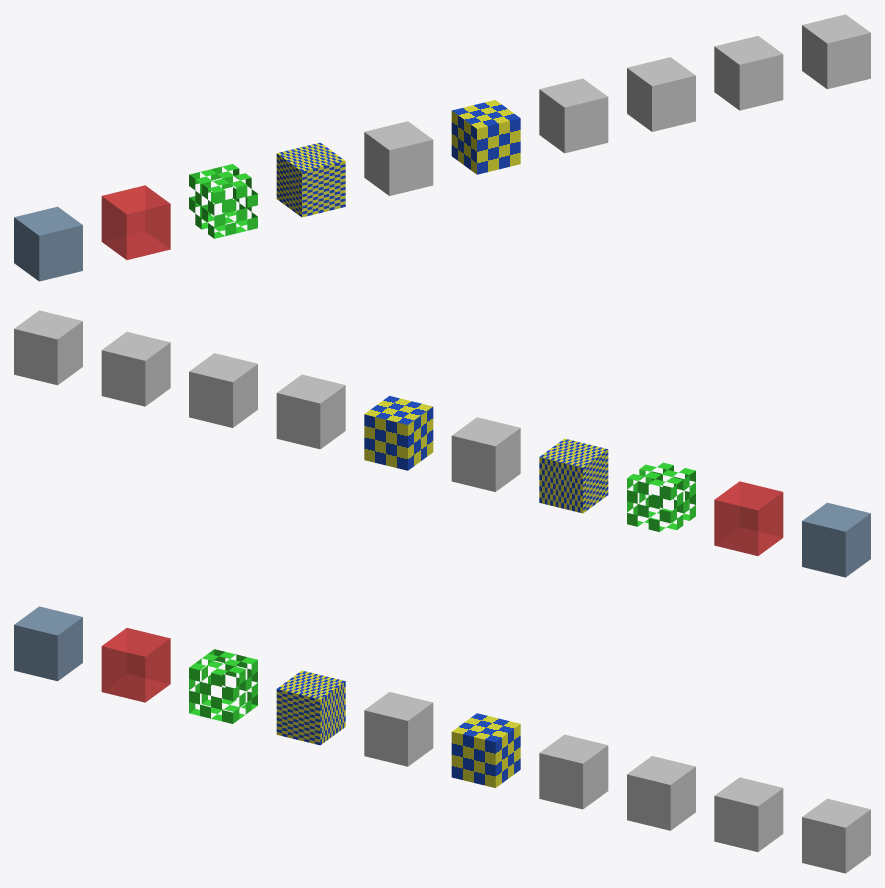
The model's file is Exotic.fbx.
3 views of the same model, one above another, from view 1: azimuth 30°, elevation 25°; view 2: azimuth 150°, elevation 25°; view 3: azimuth 330°, elevation 25° (orthographic).
Visible parts, largest first — view 1: Cube_TransparentColor, Cube_Bump, Cube_Interactive, Cube_InteractiveCutout, Cube_ArnoldMaya, Cube_Physical, Cube_LambertBare, Cube_ArnoldMax, Cube_SimplifiedPhysical, Cube_TransparentTex; view 2: Cube_TransparentColor, Cube_Bump, Cube_Interactive, Cube_InteractiveCutout, Cube_ArnoldMaya, Cube_Physical, Cube_LambertBare, Cube_ArnoldMax, Cube_SimplifiedPhysical, Cube_TransparentTex; view 3: Cube_TransparentColor, Cube_Bump, Cube_Interactive, Cube_InteractiveCutout, Cube_ArnoldMaya, Cube_Physical, Cube_LambertBare, Cube_ArnoldMax, Cube_SimplifiedPhysical, Cube_TransparentTex.
Part boxes in pixels (bbox=[...]): Cube_TransparentColor: bbox=[101, 185, 170, 259]; Cube_Bump: bbox=[276, 142, 345, 217]; Cube_Interactive: bbox=[364, 121, 433, 195]; Cube_InteractiveCutout: bbox=[451, 100, 520, 174]; Cube_ArnoldMaya: bbox=[539, 78, 608, 153]; Cube_Physical: bbox=[714, 36, 783, 110]; Cube_LambertBare: bbox=[14, 206, 82, 281]; Cube_ArnoldMax: bbox=[627, 57, 695, 131]; Cube_SimplifiedPhysical: bbox=[802, 14, 870, 89]; Cube_TransparentTex: bbox=[189, 164, 257, 238]; Cube_TransparentColor: bbox=[714, 481, 783, 555]; Cube_Bump: bbox=[539, 438, 608, 513]; Cube_Interactive: bbox=[451, 417, 520, 491]; Cube_InteractiveCutout: bbox=[364, 396, 433, 470]; Cube_ArnoldMaya: bbox=[276, 374, 345, 449]; Cube_Physical: bbox=[101, 332, 170, 406]; Cube_LambertBare: bbox=[802, 502, 870, 577]; Cube_ArnoldMax: bbox=[189, 353, 257, 427]; Cube_SimplifiedPhysical: bbox=[14, 310, 82, 385]; Cube_TransparentTex: bbox=[627, 462, 695, 531]; Cube_TransparentColor: bbox=[101, 628, 170, 702]; Cube_Bump: bbox=[276, 670, 345, 745]; Cube_Interactive: bbox=[364, 692, 433, 766]; Cube_InteractiveCutout: bbox=[451, 713, 520, 787]; Cube_ArnoldMaya: bbox=[539, 734, 608, 809]; Cube_Physical: bbox=[714, 777, 783, 851]; Cube_LambertBare: bbox=[14, 606, 82, 681]; Cube_ArnoldMax: bbox=[627, 756, 695, 830]; Cube_SimplifiedPhysical: bbox=[802, 798, 870, 873]; Cube_TransparentTex: bbox=[189, 649, 257, 723].
Bounding box in the file's own units: 19 × 1 × 1.
10 materials, 2 textured.
